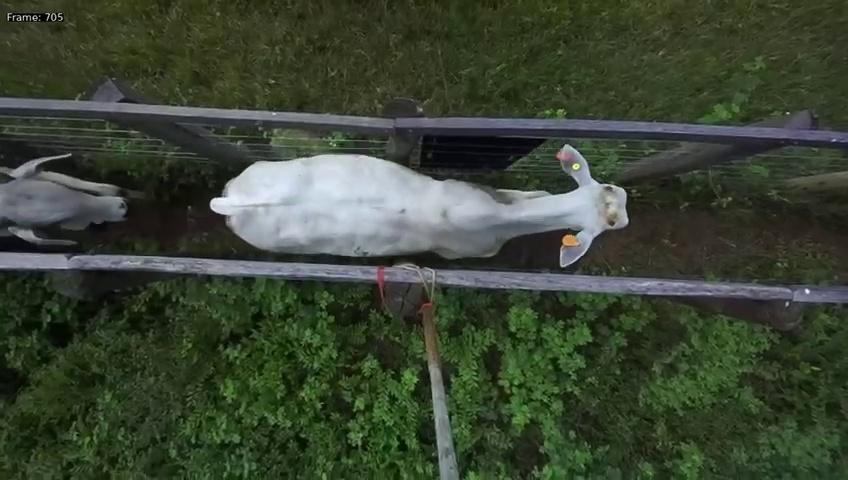cattle: (208, 139, 629, 268)
